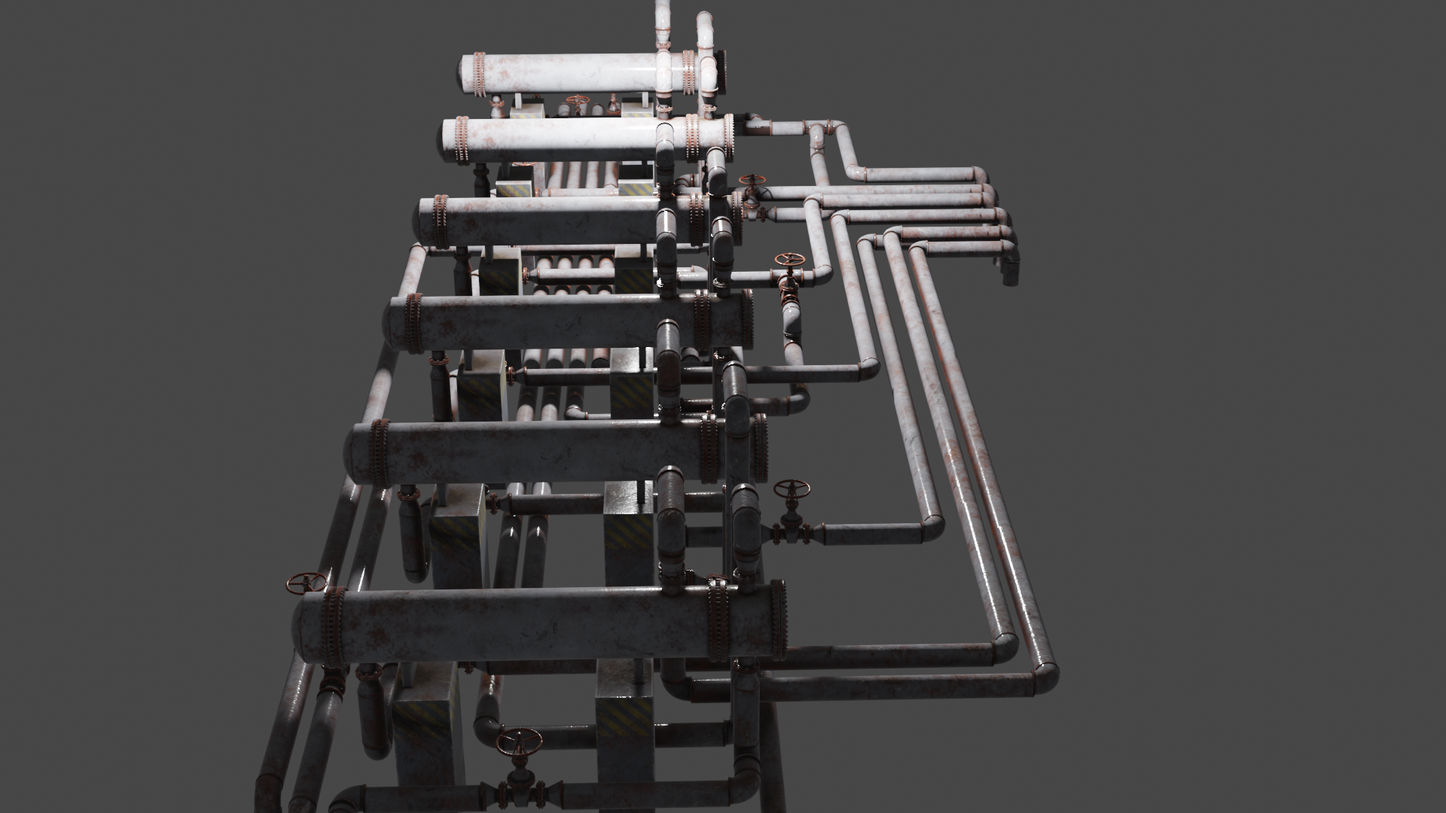HE_1: (288, 582, 790, 662)
HE_2: (338, 411, 771, 488)
HE_3: (377, 288, 758, 355)
HE_4: (411, 188, 744, 248)
HE_5: (433, 114, 734, 163)
HE_6: (459, 50, 730, 97)
